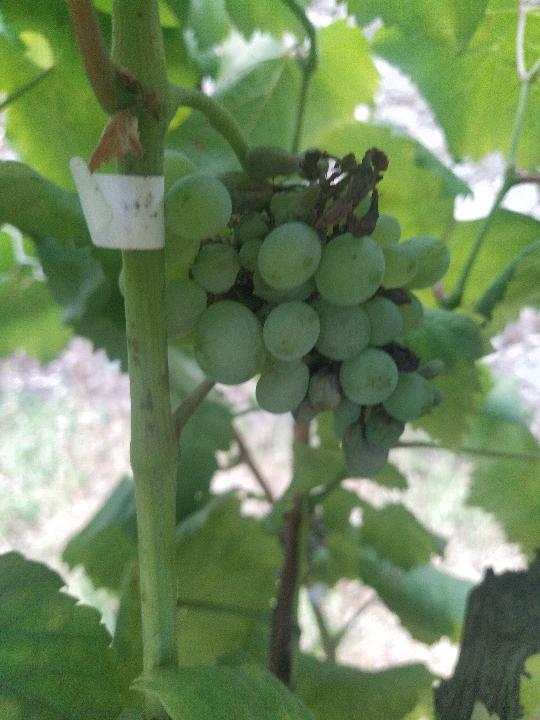grape: (165, 138, 457, 481)
